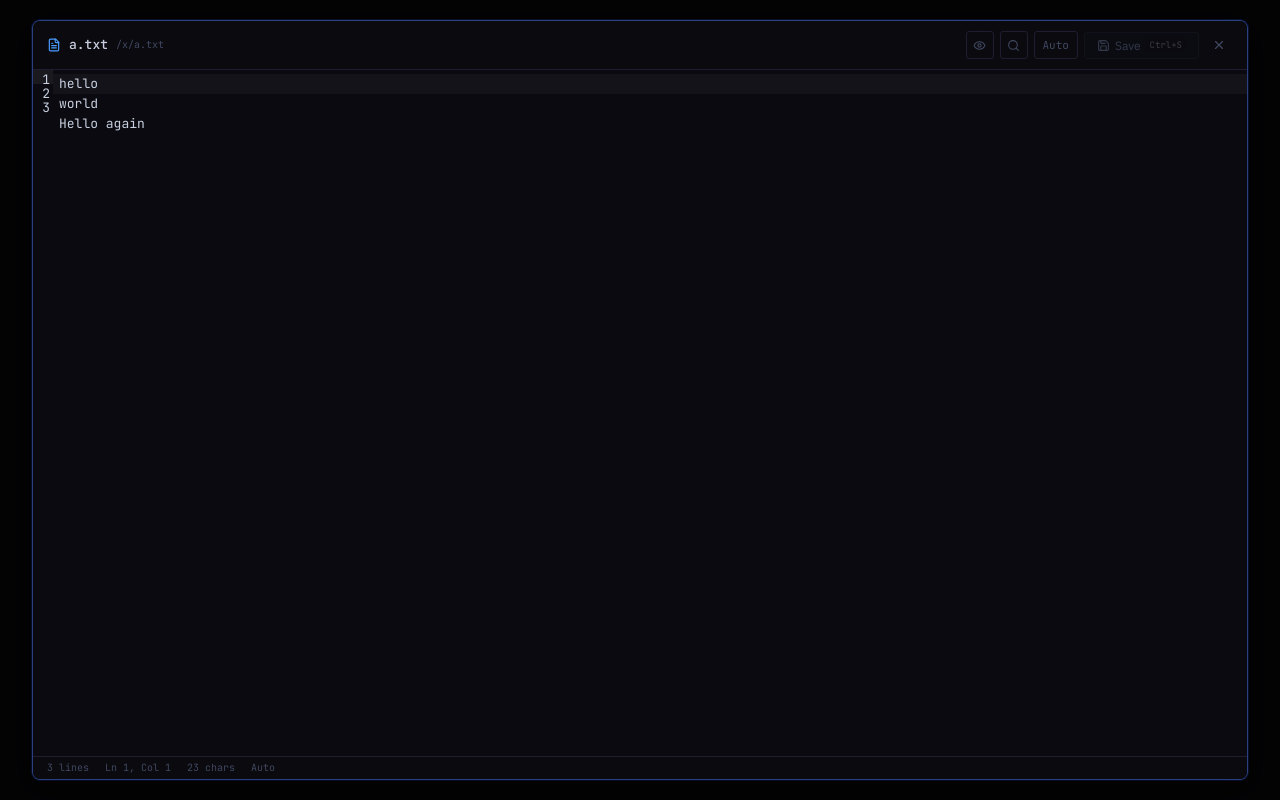
Test: TextEditor 커버리지 (TEC) › TEC-11: 인코딩 순환 — 깨끗하면 바로 변경 후 재로딩
Click the button titled "인코딩: Auto" at (1056, 45), box left=1034, top=31, right=1078, bottom=59
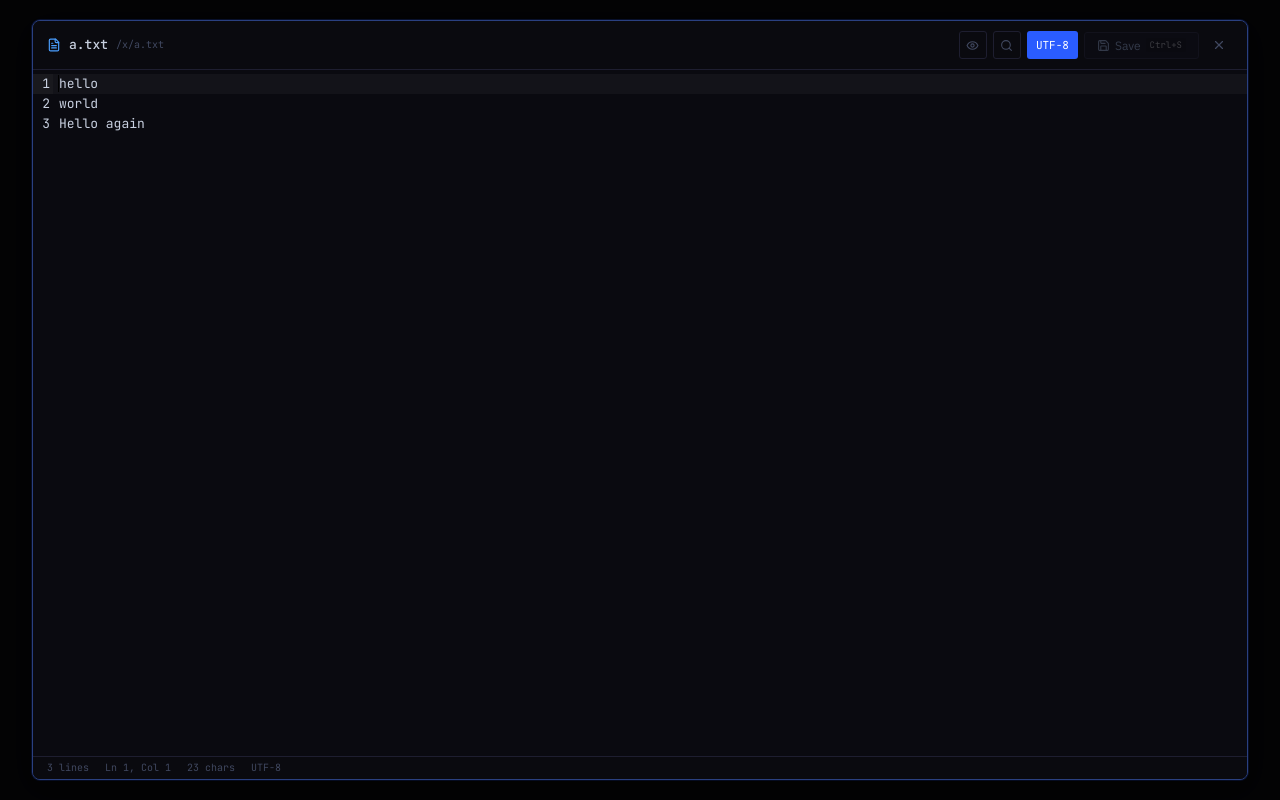
Now the button titled "인코딩: UTF-8" is shown, box left=1027, top=31, right=1078, bottom=59
